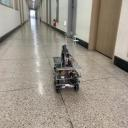cart: (53, 58, 82, 93)
